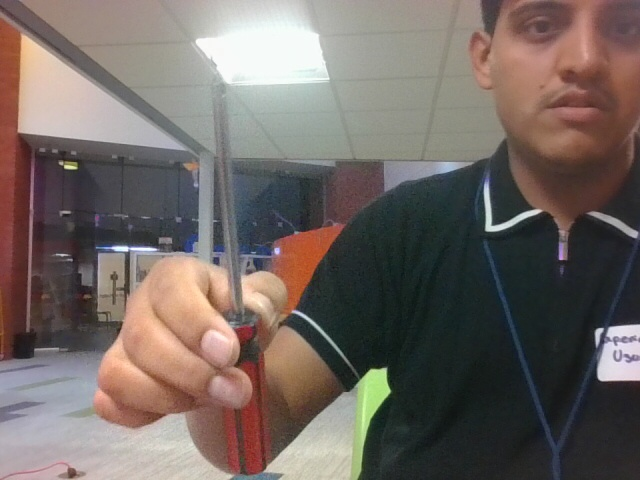destornillador: (210, 58, 271, 476)
